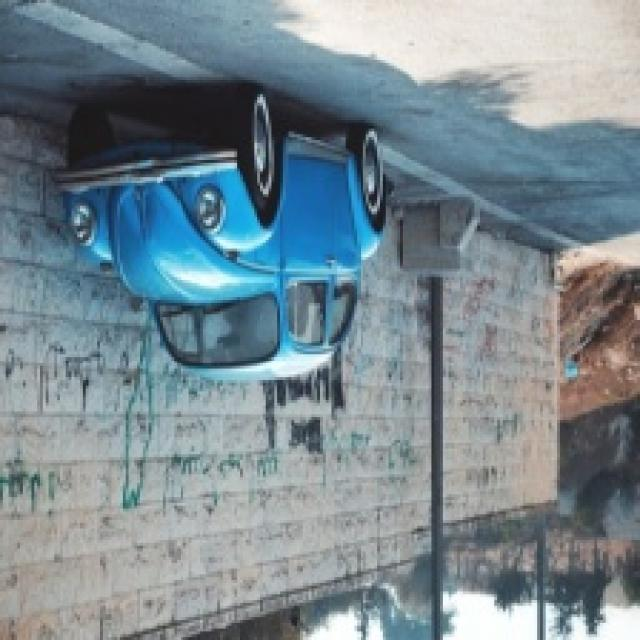car: (56, 109, 385, 390)
